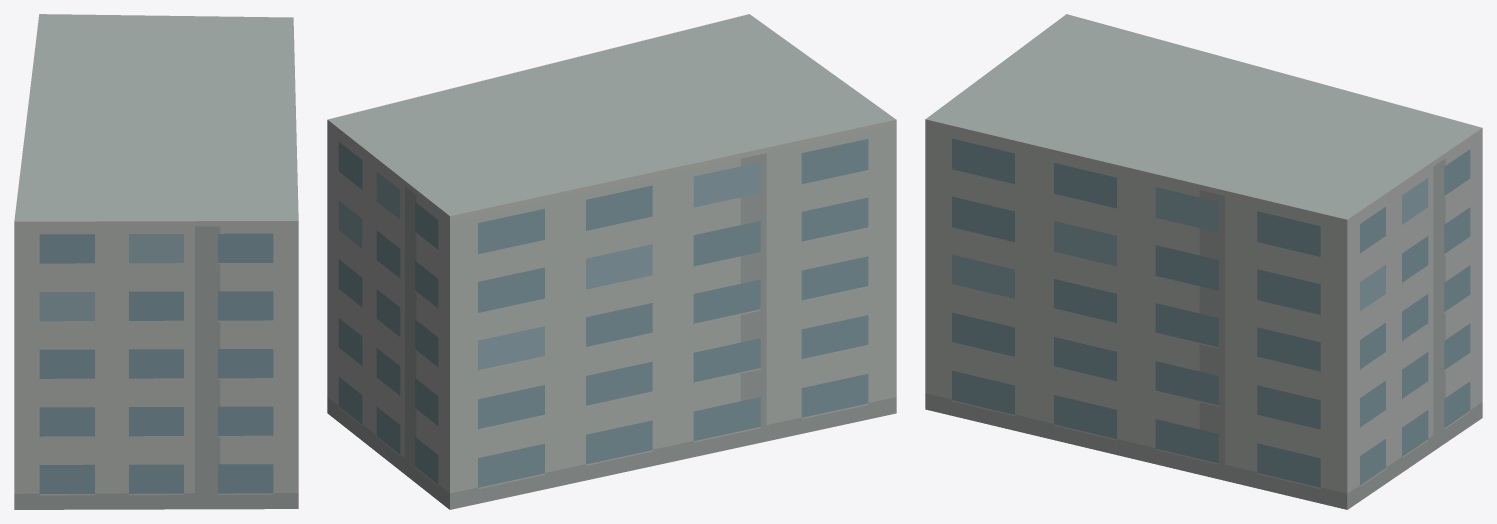
File: survey-upis-32907086.glb
3 renders of one model, left to right at view 1: azimuth 30°, elevation 25°; view 2: azimuth 150°, elevation 25°; view 3: azimuth 270°, elevation 25°, orthographic.
Visible parts, largest first — view 1: survey-upis-32907086.tmp; view 2: survey-upis-32907086.tmp; view 3: survey-upis-32907086.tmp.
Boxes of the visible parts, x1,y1,x2,y2 form: survey-upis-32907086.tmp: (14,14,298,509); survey-upis-32907086.tmp: (327,14,896,509); survey-upis-32907086.tmp: (925,14,1482,509).
Bounding box in the file's own units: 20.09 × 13.2 × 22.99.
